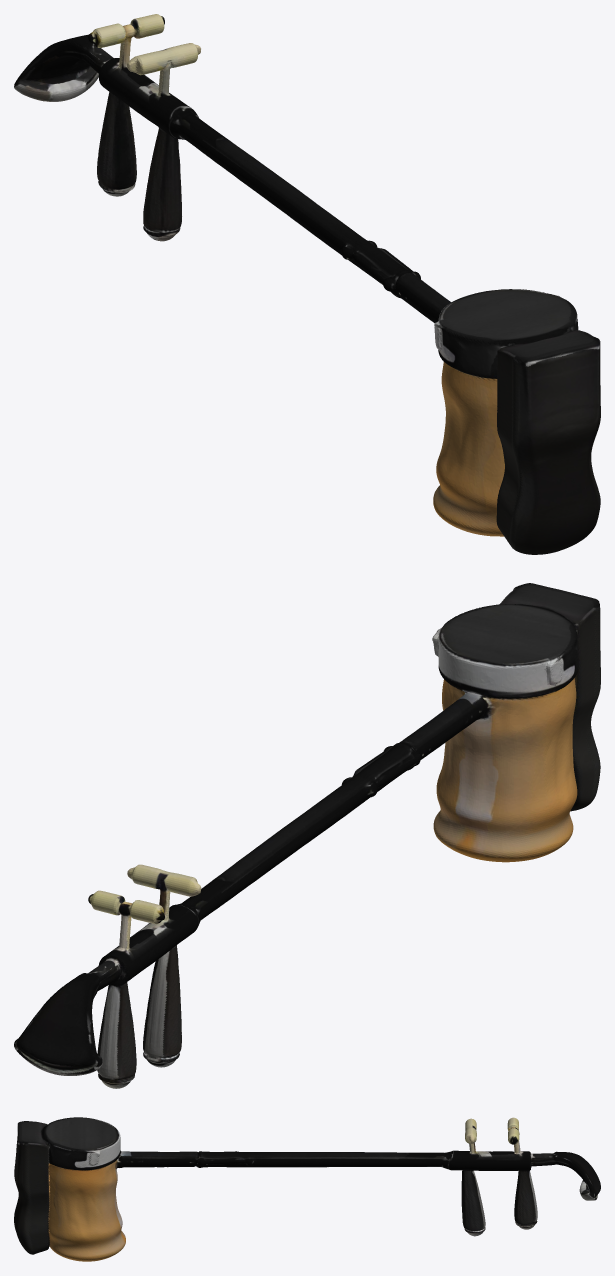
The model's file is huagudatong.gltf.
3 renders of one model, top to bottom at view 1: azimuth 30°, elevation 25°; view 2: azimuth 150°, elevation 25°; view 3: azimuth 270°, elevation 25°, orthographic. The views are drawn at different scales.
Visible parts, largest first — view 1: tripo_node_0104894d-81bd-47dc-800e-92f0bce25c0c; view 2: tripo_node_0104894d-81bd-47dc-800e-92f0bce25c0c; view 3: tripo_node_0104894d-81bd-47dc-800e-92f0bce25c0c.
Part boxes in pixels (box(x1,y1,x2,y2)): tripo_node_0104894d-81bd-47dc-800e-92f0bce25c0c: box(14, 14, 600, 554); tripo_node_0104894d-81bd-47dc-800e-92f0bce25c0c: box(14, 583, 600, 1088); tripo_node_0104894d-81bd-47dc-800e-92f0bce25c0c: box(14, 1117, 600, 1261).
Size of the model in its own units: 14.9 by 25.39 by 108.
Materials: 1 (1 with a texture image).
